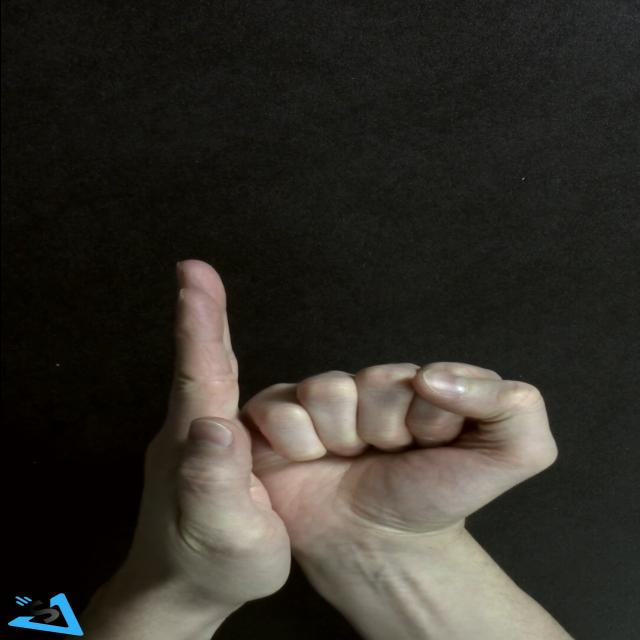Rock: (238, 360, 562, 544)
